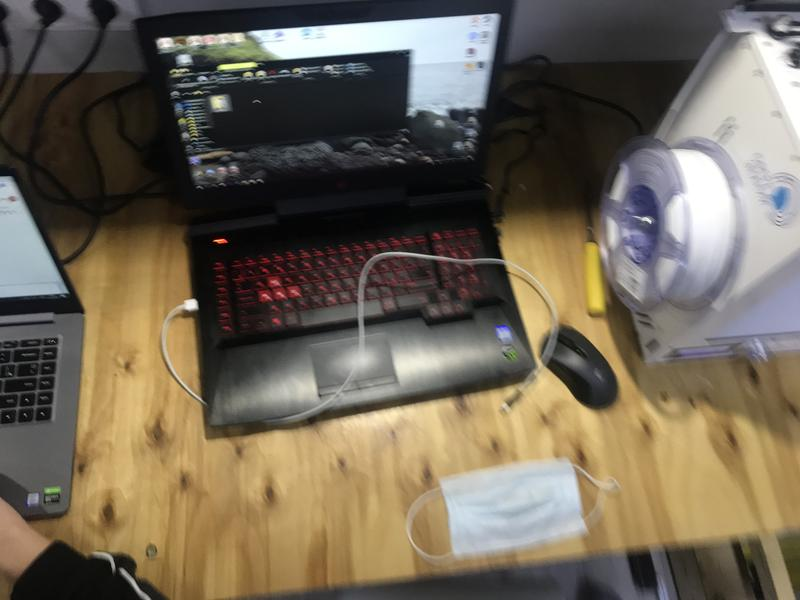medical_mask: (406, 458, 619, 560)
